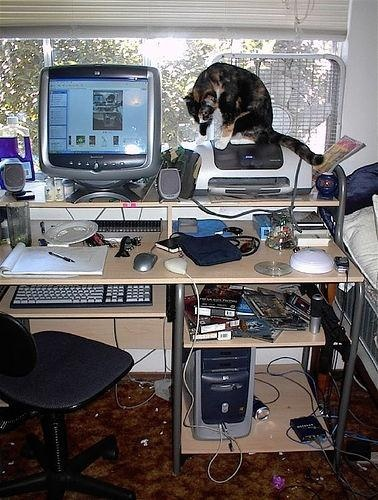cat: (183, 61, 326, 167)
chair: (1, 313, 136, 500)
tvmonitor: (39, 65, 163, 203)
